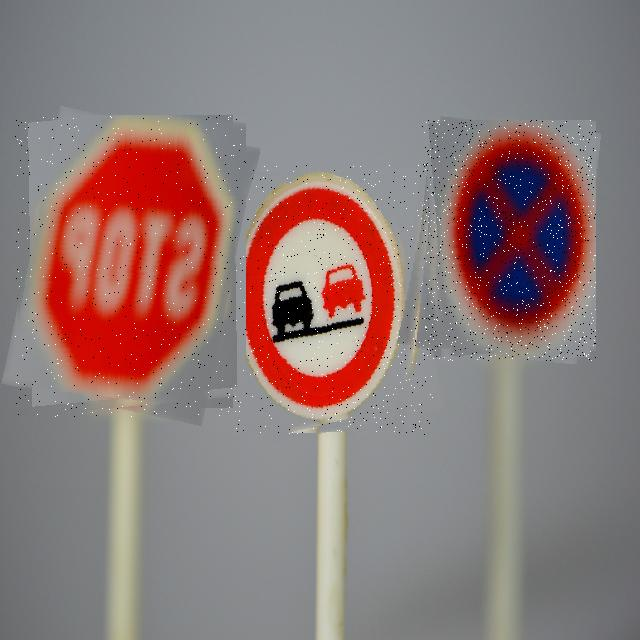no overtaking: (235, 165, 433, 435)
no stopping: (422, 120, 596, 361)
stop: (15, 115, 246, 417)
